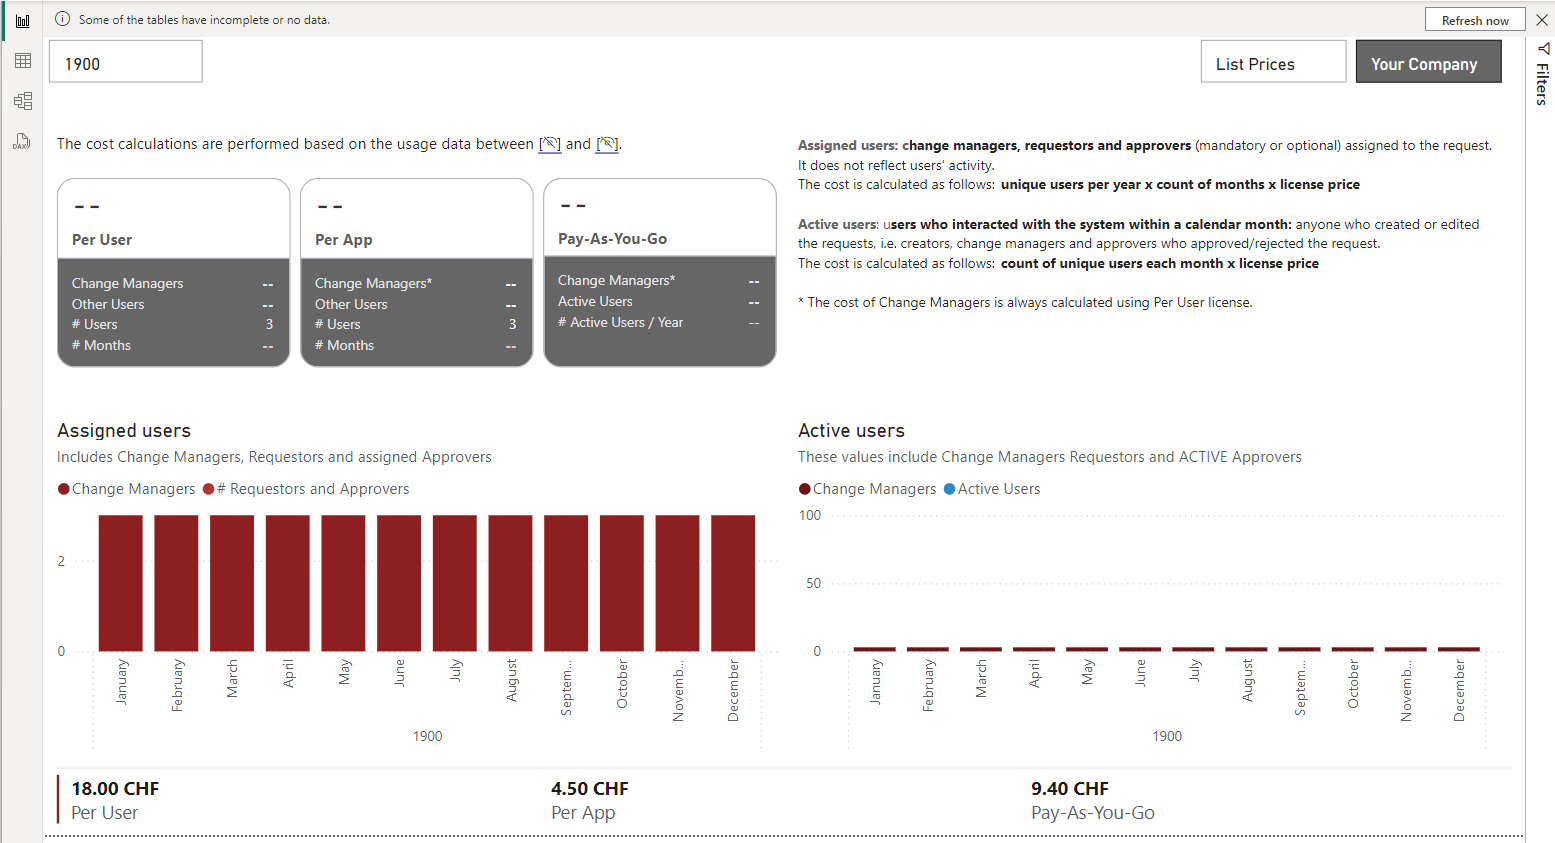

The dashboard page shown, as its layout file describes it:
{"tool":"powerbi","page":{"name":"License Cost Estimations","canvas":[1280,720],"ordinal":0},"visuals":[{"type":"advancedSlicerVisual","title":"License cost calculations","fields":{"Values":["_Months List.End Of Month.Variation.Date Hierarchy.Year"]},"box":[0,28.5,995,47.5],"z":0},{"type":"lineStackedColumnComboChart","title":"Assigned users ","fields":{"Category":["_Months List.End Of Month.Variation.Date Hierarchy.Year","_Months List.End Of Month.Variation.Date Hierarchy.Month"],"Y":["UsersAssigned.#Change Managers","UsersAssigned.# Average Users/Year"]},"box":[7,360.1,633,296.9],"z":1000},{"type":"lineStackedColumnComboChart","title":"Active users ","fields":{"Category":["Months List.End Of Month.Variation.Date Hierarchy.Year","Months List.End Of Month.Variation.Date Hierarchy.Month"],"Y":["UsersAssigned.#Change Managers","Count(UsersActive.UserId)"]},"box":[647,360.1,617.9,296.9],"z":2000},{"type":"cardVisual","fields":{"Data":["UsersAssigned.Cost Total Per User","UsersAssigned.Cost Total Per App","UsersActive.Cost Total PAYG"]},"box":[7.2,148.1,633.4,174.6],"z":3000},{"type":"multiRowCard","fields":{"Values":["Licenses.Per User","Licenses.Per App","Licenses.PAYG"]},"box":[6.9,656.2,1266.3,62.8],"z":4000},{"type":"textbox","box":[647,109.3,610.9,213.7],"z":5000},{"type":"textbox","box":[6.9,108.5,640,39.4],"z":6000},{"type":"advancedSlicerVisual","fields":{"Values":["_Cost Type.Label"]},"box":[995,28.5,270.3,47.5],"z":7000}]}

Visuals, with their boxes on the page's 1280x720 design canvas (x1, y1, x2, y2). These are canvas units, not pixel positions in the 1555x843 screenshot, which may show the page scaled, cropped or inside an application window:
"License cost calculations" advancedSlicerVisual: x1=0 y1=28 x2=995 y2=76
"Assigned users " lineStackedColumnComboChart: x1=7 y1=360 x2=640 y2=657
"Active users " lineStackedColumnComboChart: x1=647 y1=360 x2=1265 y2=657
cardVisual - UsersAssigned.Cost Total Per User x UsersAssigned.Cost Total Per App: x1=7 y1=148 x2=641 y2=323
multiRowCard - Licenses.Per User x Licenses.Per App: x1=7 y1=656 x2=1273 y2=719
textbox: x1=647 y1=109 x2=1258 y2=323
textbox: x1=7 y1=108 x2=647 y2=148
advancedSlicerVisual - _Cost Type.Label: x1=995 y1=28 x2=1265 y2=76
